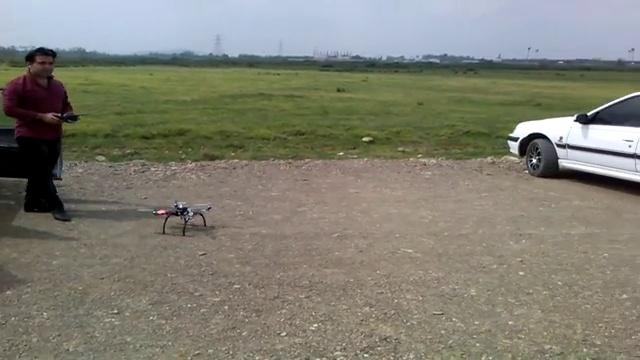drone: (136, 197, 214, 234)
